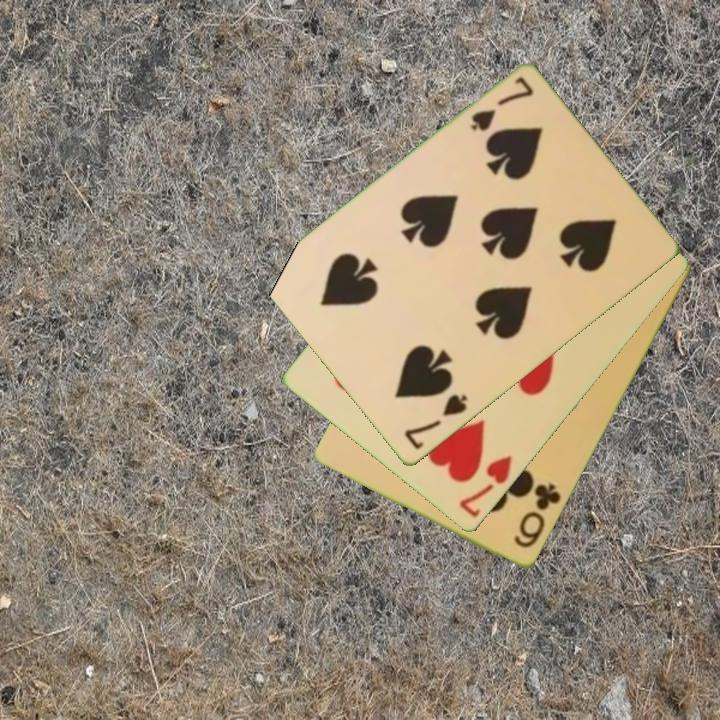6c: (510, 480, 565, 552)
7h: (455, 452, 515, 521)
7s: (401, 391, 471, 453), (467, 73, 537, 135)
